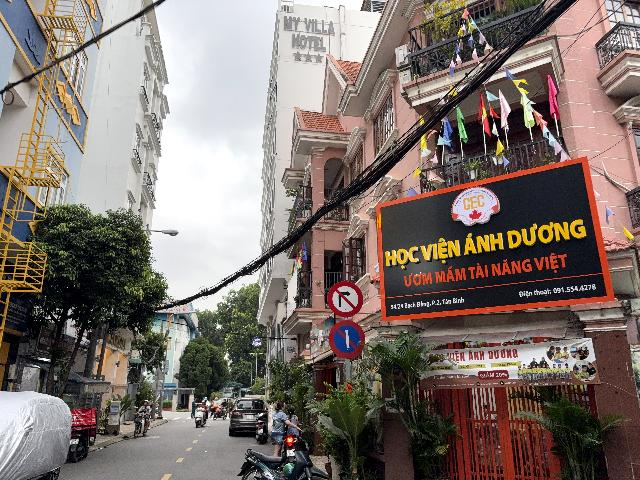cam-do-xe-ngay-le: (328, 320, 366, 358)
cam-re-phai: (327, 281, 363, 317)
